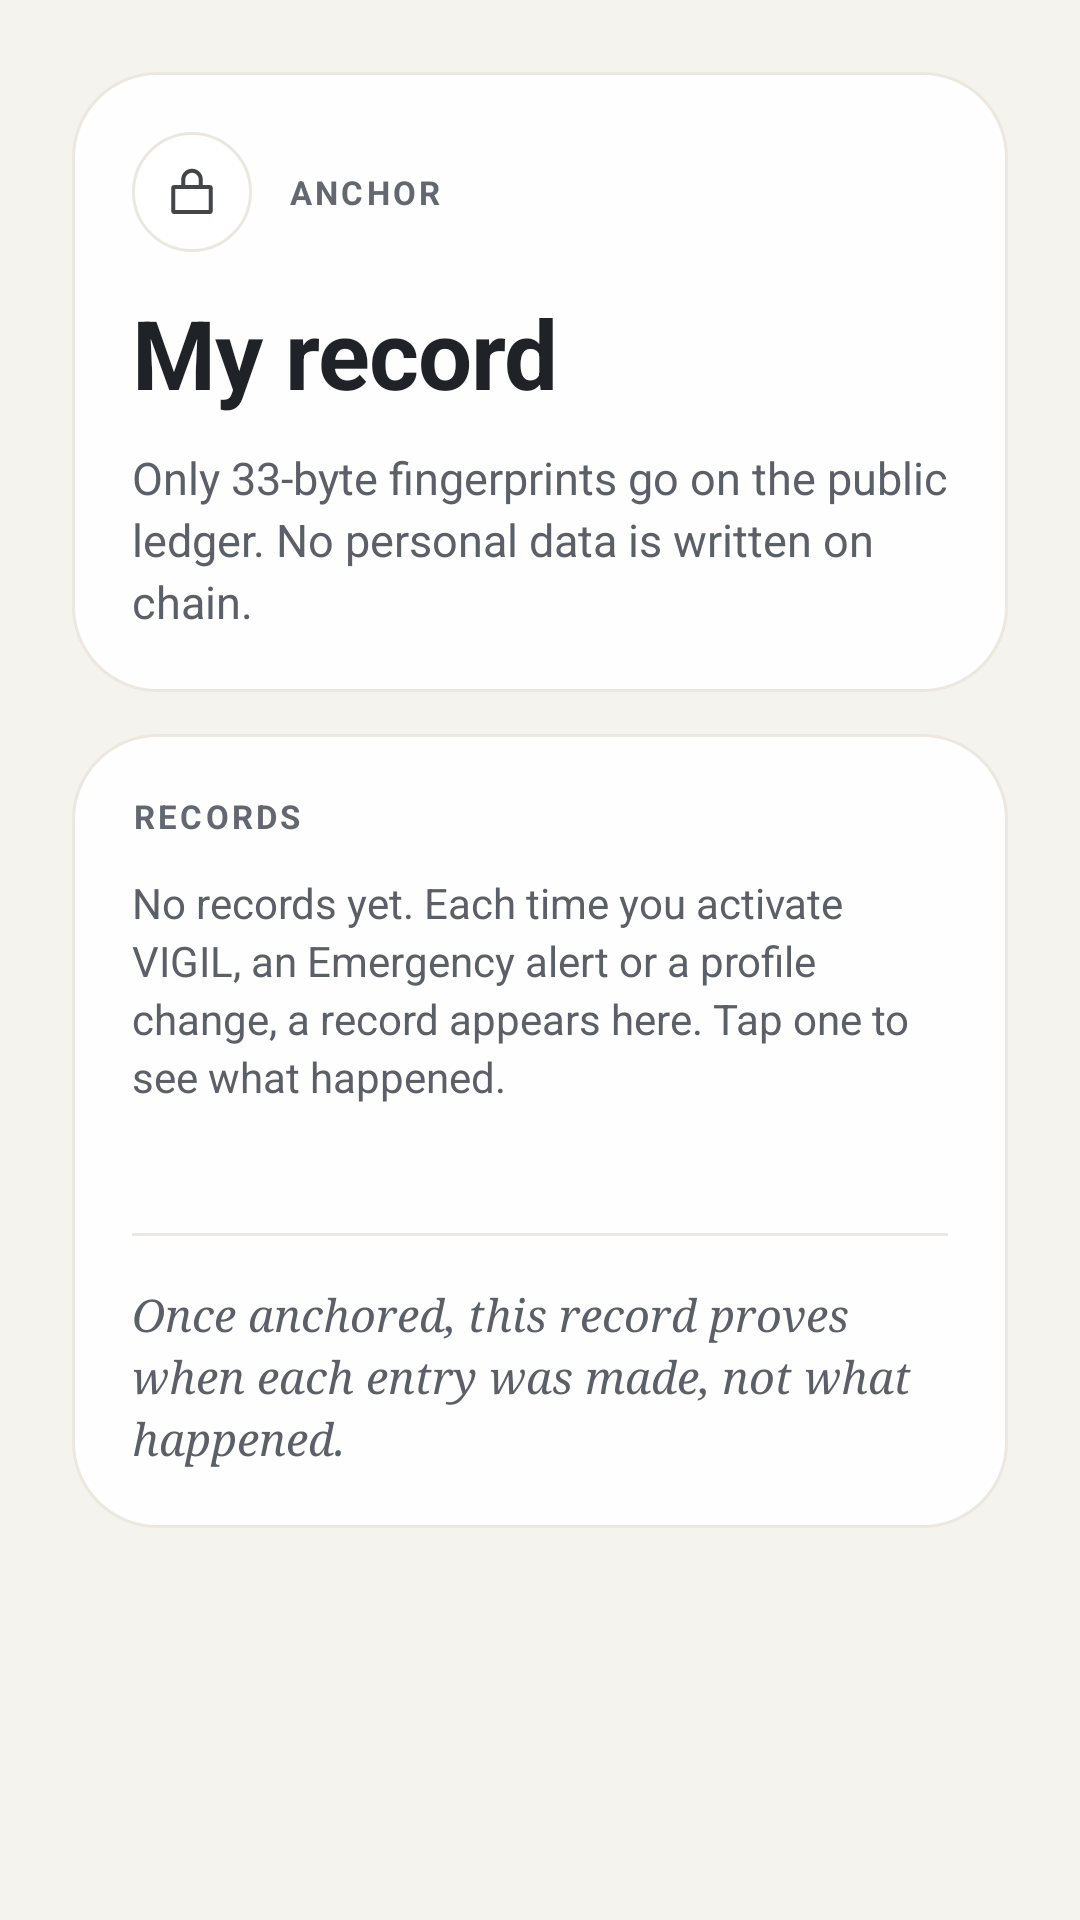

Point at icon controls on the screen. Image size 1080px×1920px, points as (x,y).
lock: (192,191)
